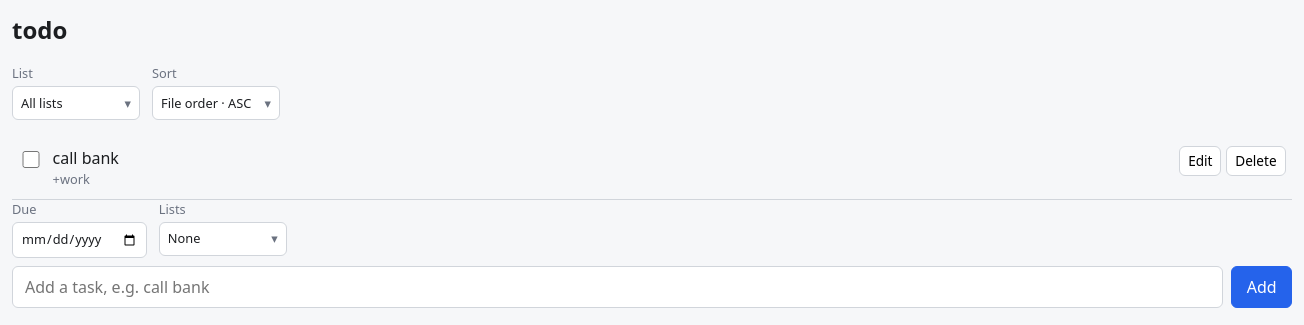
Test case: TodoPane simplified workflow (compact=false) › completes and reopens a task without hiding it
Click the checkbox: (31, 160) [22, 151, 40, 168]
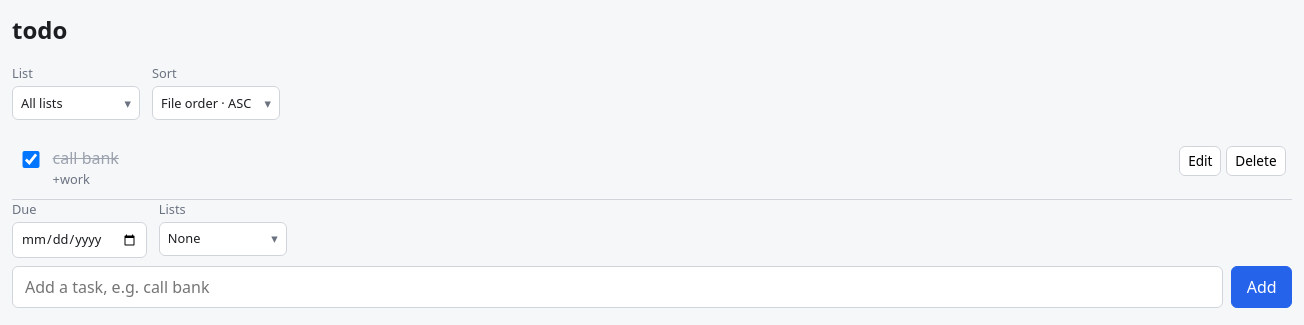
Expected: the text "call bank" is shown, [53, 147, 119, 169]
Now the checkbox is checked
Click the checkbox: (31, 160) [22, 151, 40, 168]
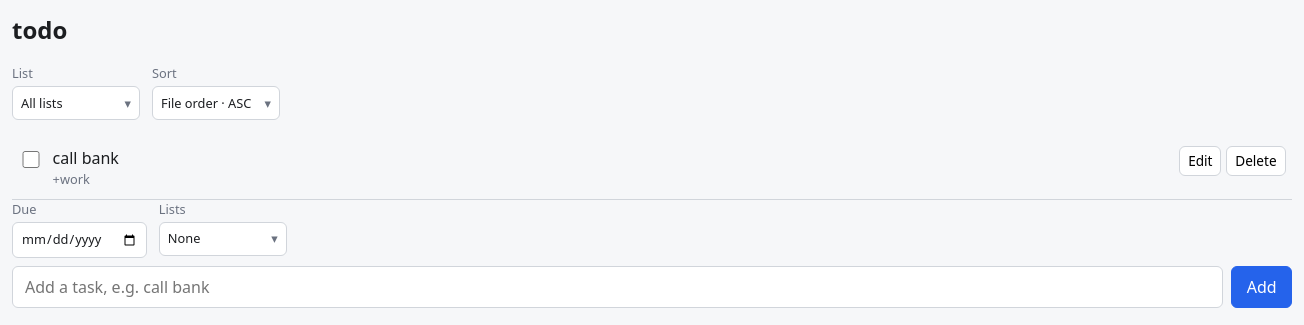
Now the checkbox is not checked, box [22, 151, 40, 168]
